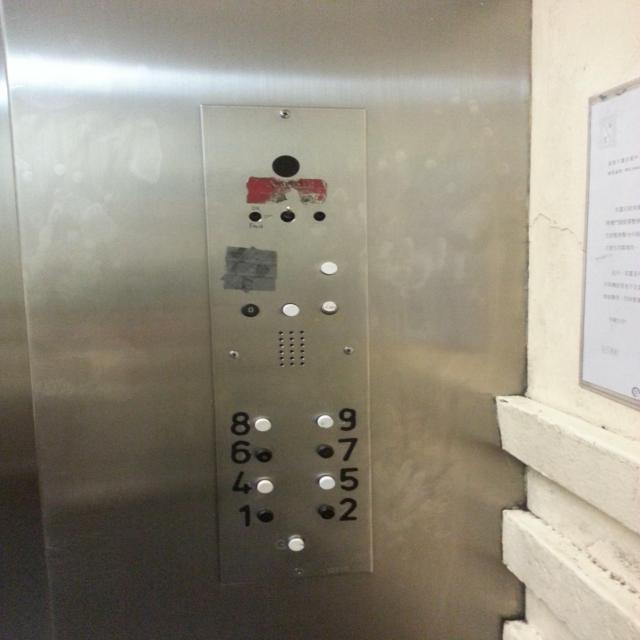D: (241, 303, 260, 318)
blur: (254, 447, 272, 463), (320, 301, 338, 314), (248, 210, 262, 222), (312, 211, 326, 221)
empty: (270, 154, 302, 178), (280, 300, 300, 320), (251, 416, 273, 433), (256, 477, 274, 494), (288, 534, 305, 552), (257, 507, 274, 524), (320, 260, 337, 274), (318, 505, 335, 519), (317, 444, 333, 458), (317, 414, 333, 428), (318, 476, 335, 489)
switch: (280, 205, 296, 222)
